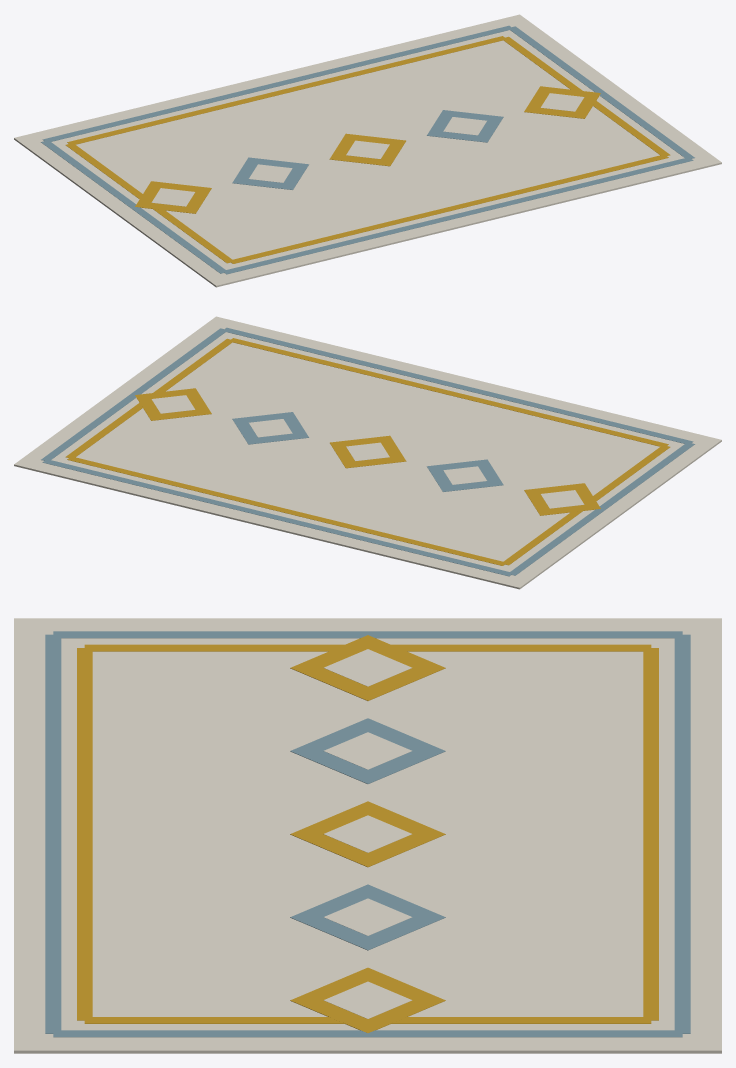
The model's file is Deco_Rug_Geo.gltf.
3 renders of one model, top to bottom at view 1: azimuth 30°, elevation 25°; view 2: azimuth 150°, elevation 25°; view 3: azimuth 270°, elevation 25°, orthographic. The views are drawn at different scales.
Visible parts, largest first — view 1: Deco_Rug_Geo; view 2: Deco_Rug_Geo; view 3: Deco_Rug_Geo.
Boxes of the visible parts, x1,y1,x2,y2 form: Deco_Rug_Geo: [14, 14, 721, 287]; Deco_Rug_Geo: [14, 316, 721, 589]; Deco_Rug_Geo: [14, 618, 721, 1053].
Bounding box in the file's own units: 2.6 × 0.00955 × 1.8.
